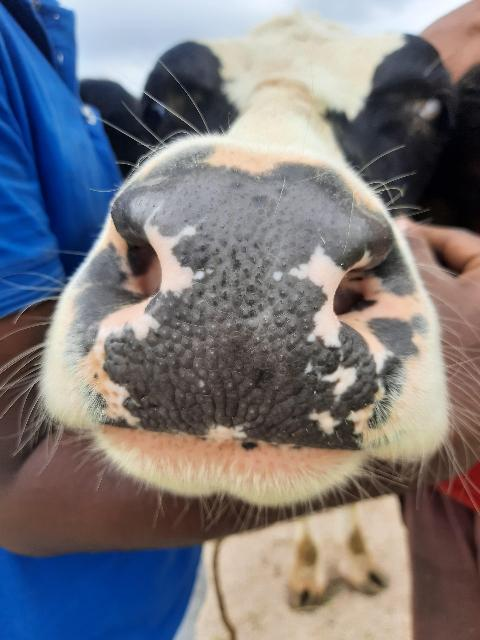Muzzle: (120, 184, 362, 446)
